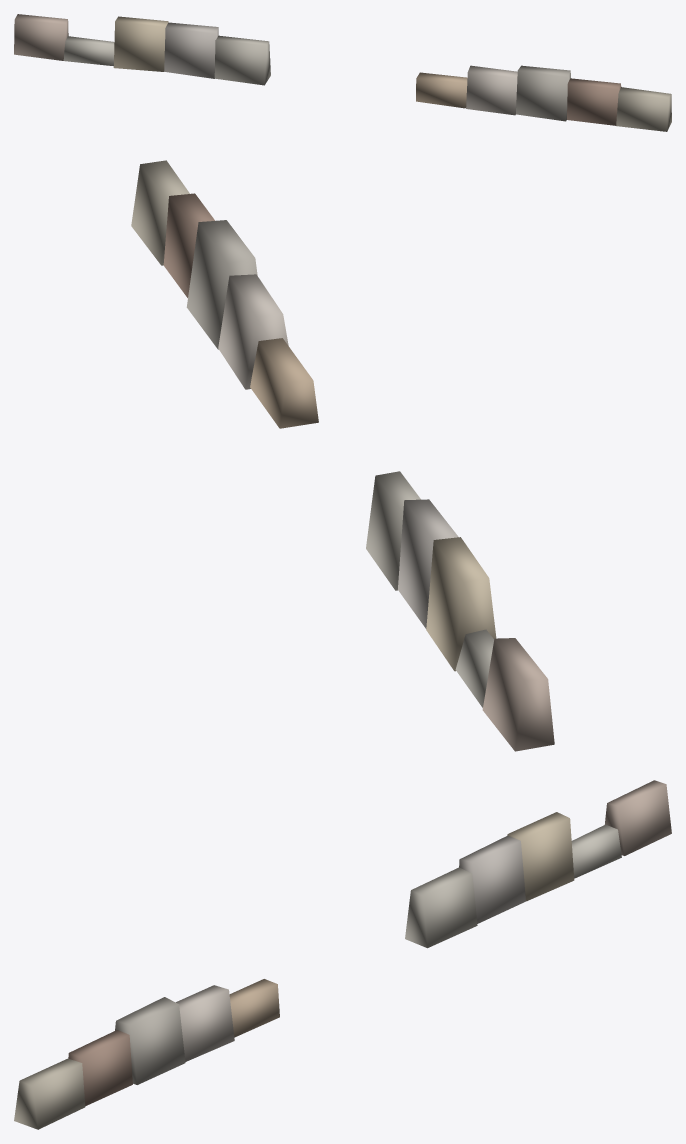
The model's file is farm_-35_-29_far.glb.
3 renders of one model, top to bottom at view 1: azimuth 30°, elevation 25°; view 2: azimuth 150°, elevation 25°; view 3: azimuth 270°, elevation 25°, orthographic. The views are drawn at different scales.
Visible parts, largest first — view 1: geometry_0; view 2: geometry_0; view 3: geometry_0.
Boxes of the visible parts, x1,y1,x2,y2 form: geometry_0: (14, 14, 671, 131); geometry_0: (131, 160, 554, 751); geometry_0: (14, 780, 671, 1129).
Size of the model in its own units: 14.91 by 1.72 by 14.23.
